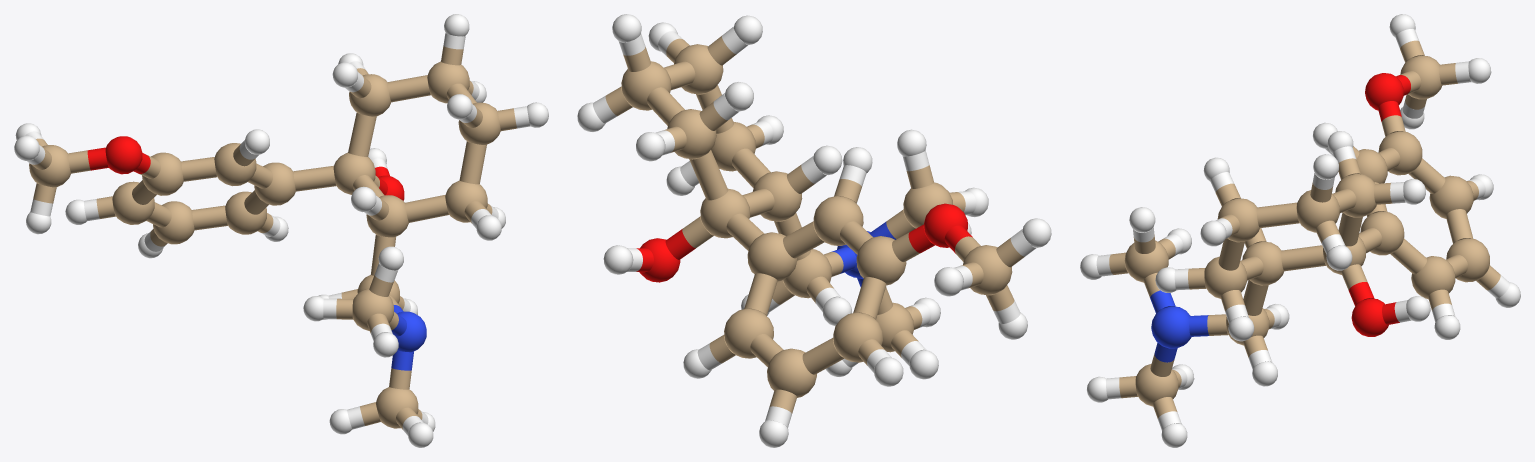
File: Zaldiar_Tramadol_hydrochloride.dae
3 renders of one model, left to right at view 1: azimuth 30°, elevation 25°; view 2: azimuth 150°, elevation 25°; view 3: azimuth 270°, elevation 25°, orthographic. The views are drawn at different scales.
Parts seen in each view (by area): view 1: subnode_10, subnode_16, subnode_15, subnode_17, subnode_12, subnode_1, subnode_11, subnode_13, subnode_4, subnode_8, subnode_5, subnode_6 (+20 smaller); view 2: subnode_10, subnode_15, subnode_16, subnode_17, subnode_11, subnode_12, subnode_8, subnode_4, subnode_7, subnode_6, subnode_18, subnode_3 (+40 smaller); view 3: subnode_2, subnode_12, subnode_17, subnode_10, subnode_15, subnode_13, subnode_16, subnode_5, subnode_8, subnode_18, subnode_14, subnode_3 (+28 smaller).
Boxes of the visible parts, x1,y1,x2,y2 form: subnode_10: (254, 162, 295, 205); subnode_16: (153, 201, 194, 244); subnode_15: (142, 152, 183, 195); subnode_17: (112, 181, 154, 224); subnode_12: (225, 191, 266, 234); subnode_1: (105, 136, 142, 174); subnode_11: (214, 143, 256, 186); subnode_13: (376, 387, 418, 428); subnode_4: (333, 152, 375, 194); subnode_8: (427, 61, 469, 103); subnode_5: (445, 180, 487, 222); subnode_6: (349, 74, 391, 116); subnode_10: (747, 232, 797, 281); subnode_15: (856, 236, 906, 285); subnode_16: (767, 348, 816, 397); subnode_17: (833, 312, 883, 362); subnode_11: (813, 196, 863, 245); subnode_12: (724, 308, 773, 358); subnode_8: (621, 61, 671, 110); subnode_4: (700, 188, 750, 238); subnode_7: (674, 44, 723, 94); subnode_6: (667, 109, 716, 159); subnode_18: (963, 245, 1012, 295); subnode_3: (752, 171, 802, 221); subnode_2: (1151, 306, 1191, 348); subnode_12: (1411, 256, 1455, 299); subnode_17: (1429, 175, 1473, 218); subnode_10: (1360, 211, 1404, 255); subnode_15: (1378, 131, 1422, 175); subnode_13: (1135, 364, 1178, 406); subnode_16: (1446, 238, 1489, 282); subnode_5: (1204, 256, 1247, 298); subnode_8: (1296, 190, 1339, 232); subnode_18: (1400, 55, 1442, 99); subnode_14: (1124, 240, 1168, 282); subnode_3: (1242, 241, 1284, 285).
Bounding box in the file's own units: 9.8 × 7.26 × 8.4.
